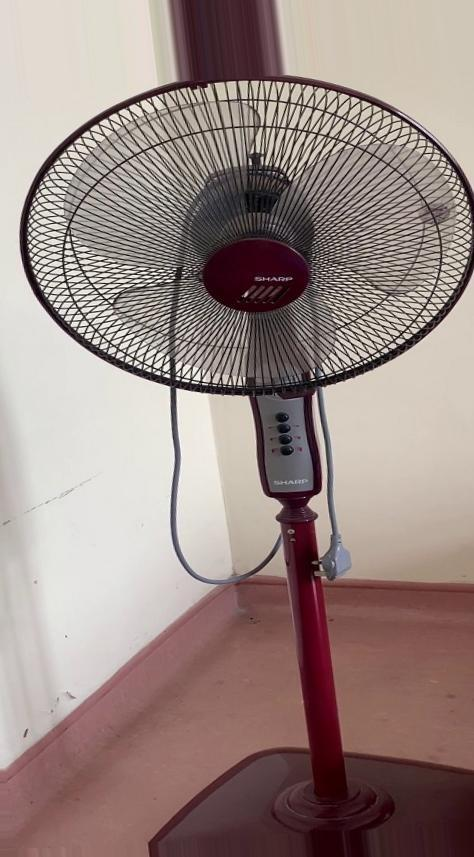fan: (15, 63, 474, 857)
